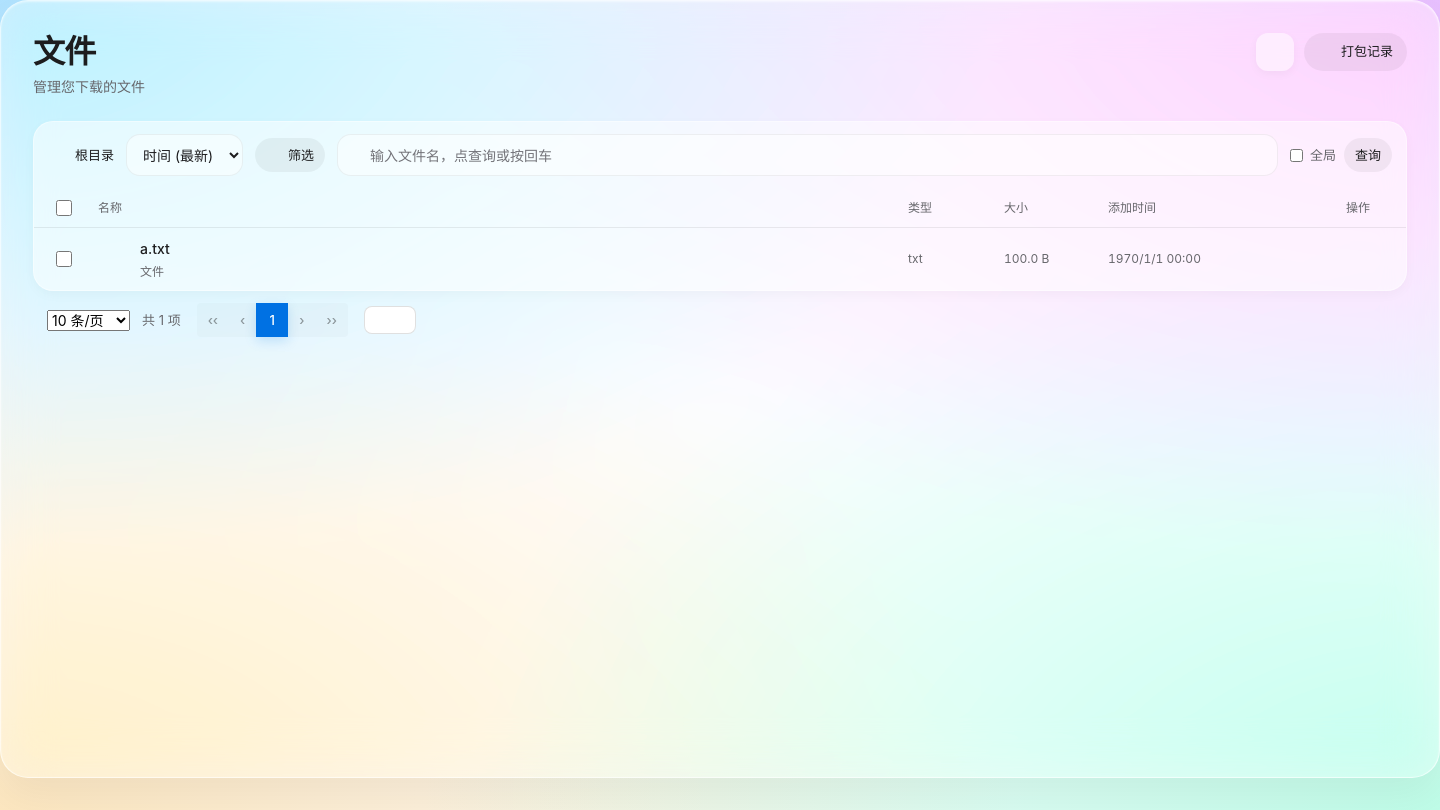
Test: FilesPage（V1 文件页） › 打包弹窗：预计算展示与默认输出名
Expected: the text "a.txt" is shown, [140, 240, 170, 257]
Click the checkbox named "选择文件": (64, 259) [56, 251, 72, 267]
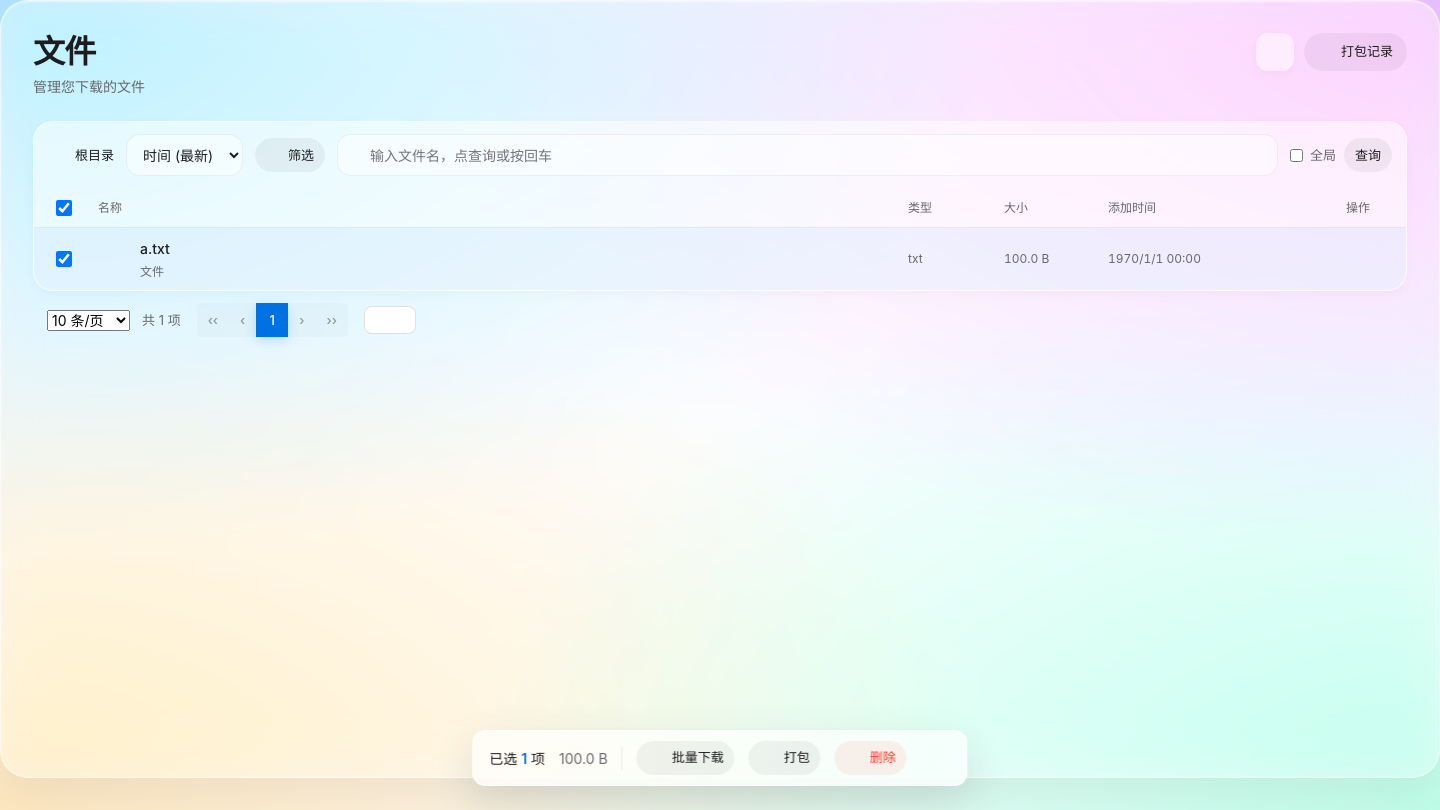
Click the button "打包": (785, 758) [749, 741, 821, 775]
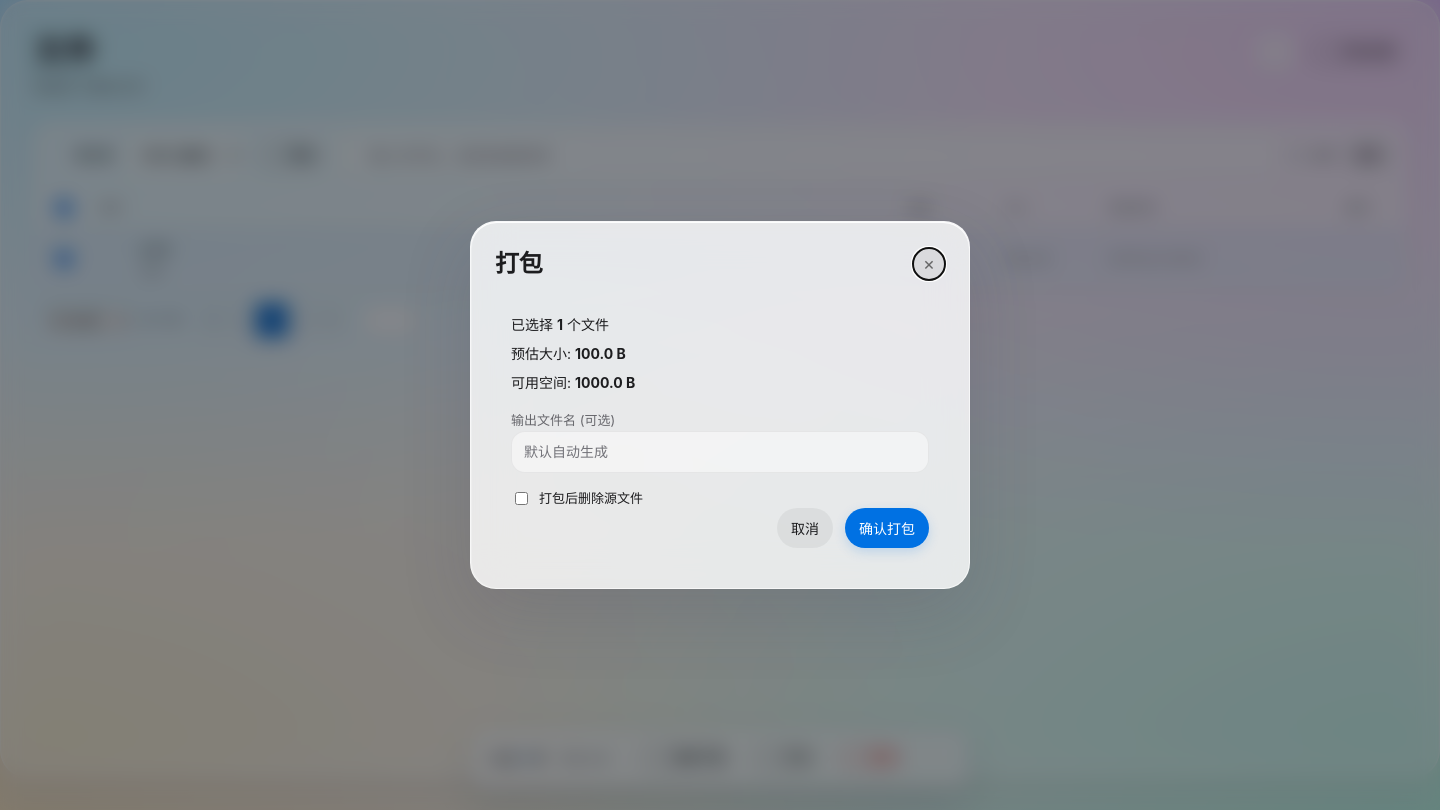
Click the button "确认打包": (887, 528) [845, 508, 929, 548]
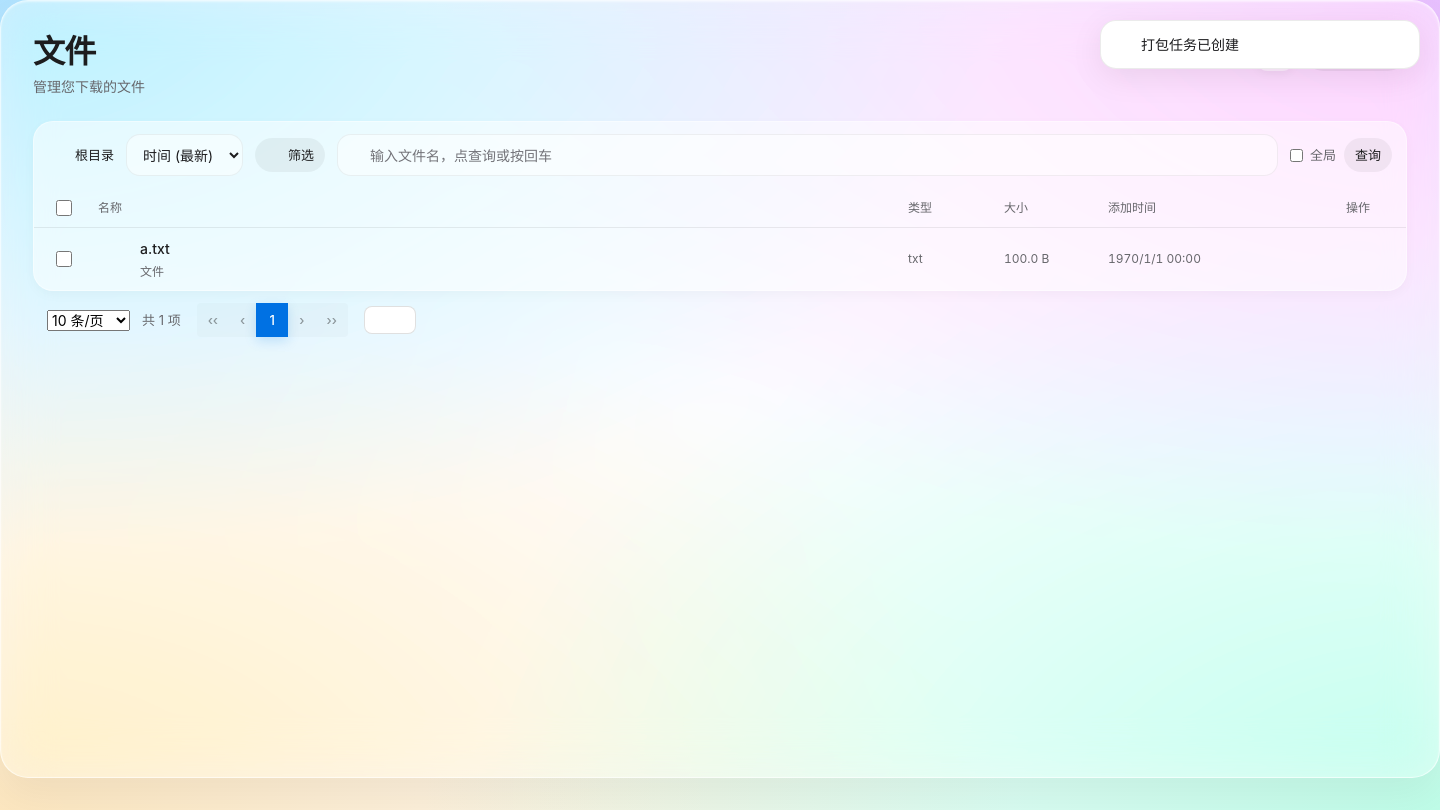
Now the element with class "bulk-bar" is gone
